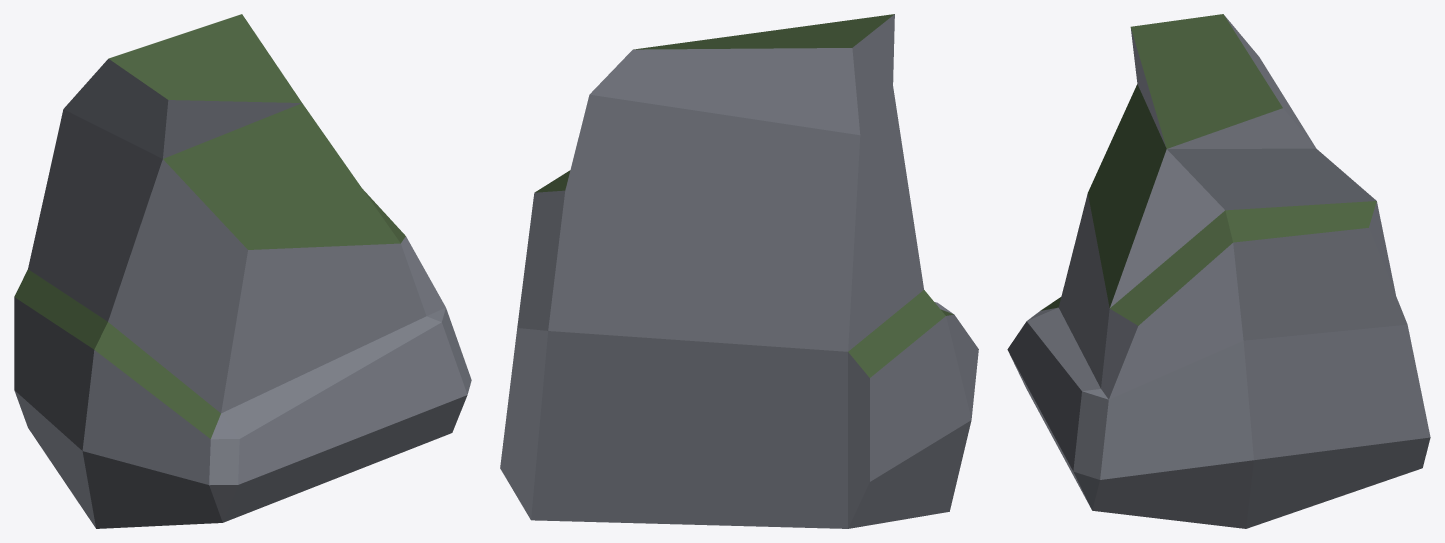
Rendered from Rock_Moss_2.gltf.
3 renders of one model, left to right at view 1: azimuth 30°, elevation 25°; view 2: azimuth 150°, elevation 25°; view 3: azimuth 270°, elevation 25°, orthographic. The views are drawn at different scales.
Visible parts, largest first — view 1: Rock_Moss_2; view 2: Rock_Moss_2; view 3: Rock_Moss_2.
Part boxes in pixels (box(x1,y1,x2,y2)): Rock_Moss_2: box(14, 14, 471, 528); Rock_Moss_2: box(500, 14, 978, 528); Rock_Moss_2: box(1007, 14, 1430, 528).
Bounding box in the file's own units: 0.6125 × 0.6918 × 0.6504.
